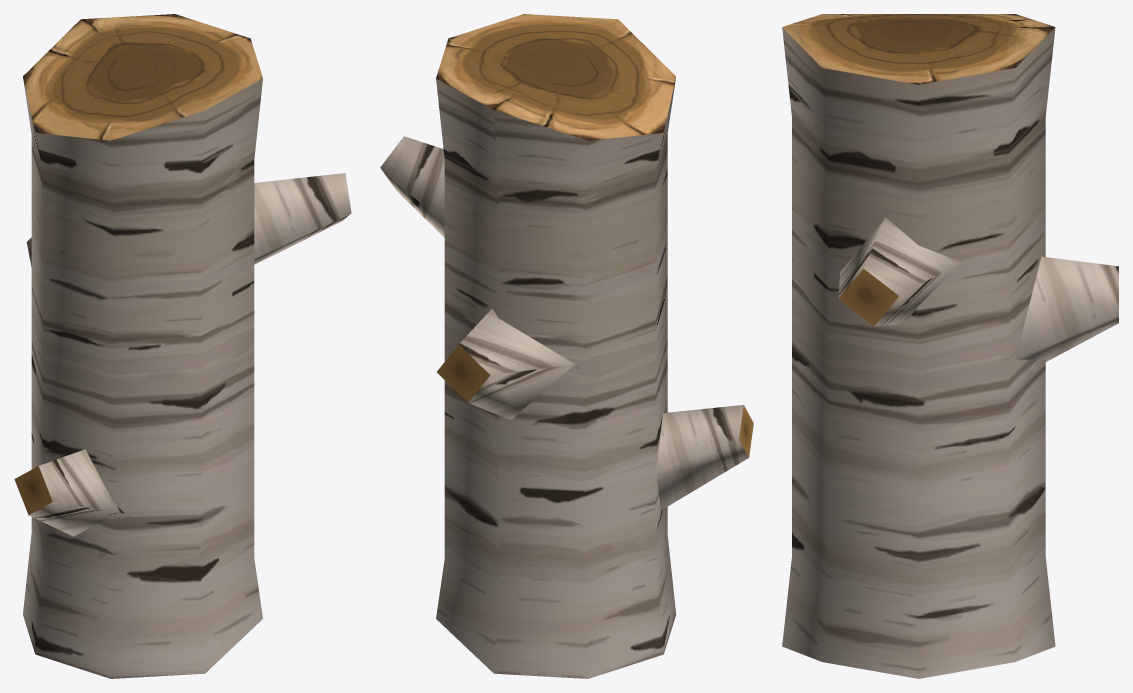
The model's file is resource_log02_A.fbx.
3 renders of one model, left to right at view 1: azimuth 30°, elevation 25°; view 2: azimuth 150°, elevation 25°; view 3: azimuth 270°, elevation 25°, orthographic. The views are drawn at different scales.
Parts seen in each view (by area): view 1: resource_log02_A; view 2: resource_log02_A; view 3: resource_log02_A.
Part boxes in pixels (x1=…): resource_log02_A: x1=14, y1=14, x2=351, y2=678; resource_log02_A: x1=380, y1=14, x2=753, y2=678; resource_log02_A: x1=782, y1=14, x2=1118, y2=678.
Size of the model in its own units: 68.16 by 108 by 53.08.
